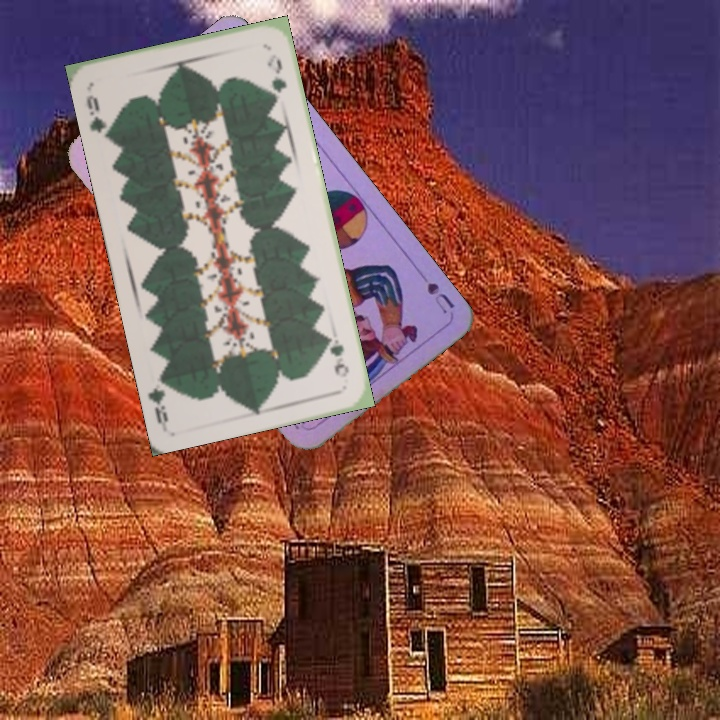G9: (82, 91, 116, 142), (323, 331, 352, 380)
SU: (412, 265, 458, 317)
